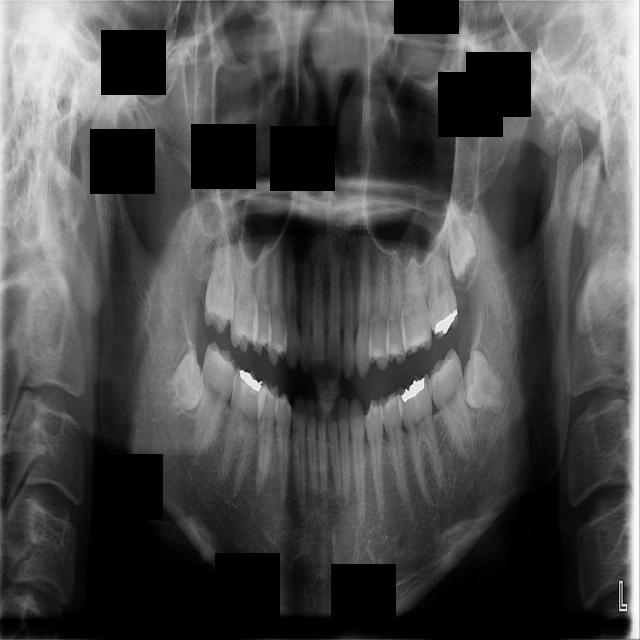52: (397, 374, 430, 405), (431, 304, 460, 339), (236, 366, 265, 393)
73: (618, 586, 628, 604)
BioHorizons Implant: (417, 229, 462, 343)
BioLife Implant: (444, 199, 479, 285)
Biomet 3i Implant: (461, 347, 505, 411)
Blue Sky Bio Implant: (422, 345, 476, 460)
Caries: (202, 219, 241, 336)
Implant: (187, 341, 241, 455)
Keystone Dental Implant: (157, 348, 213, 415)
